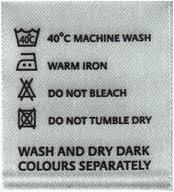40C: (14, 25, 41, 49)
DN_bleach: (17, 76, 37, 101)
DN_tumble_dry: (16, 106, 38, 131)
iron_medium: (14, 51, 39, 72)
